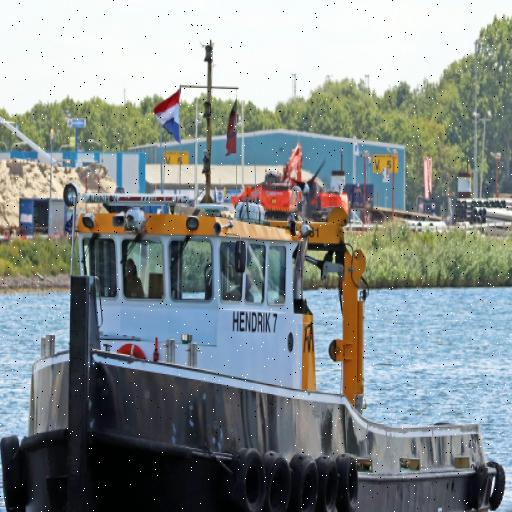tugboat: (1, 170, 510, 512)
